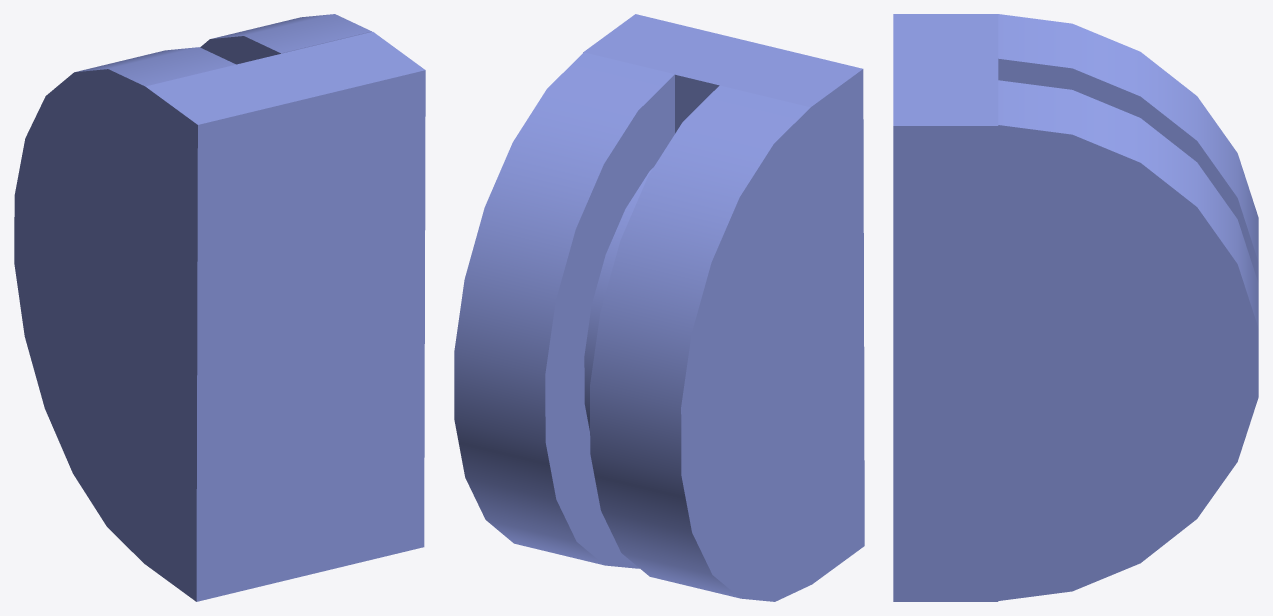
The model's file is FYP_TempleTrapCorridor_LeverBase.FBX.
The picture shows the model from 3 angles, left to right: view 1: azimuth 30°, elevation 25°; view 2: azimuth 150°, elevation 25°; view 3: azimuth 270°, elevation 25°; orthographic projection.
Visible parts, largest first — view 1: LeverBase; view 2: LeverBase; view 3: LeverBase.
Boxes of the visible parts, x1=… form: LeverBase: x1=14, y1=14, x2=425, y2=601; LeverBase: x1=454, y1=14, x2=864, y2=601; LeverBase: x1=893, y1=14, x2=1258, y2=601.
Bounding box in the file's own units: 0.5031 × 1 × 0.6949.
